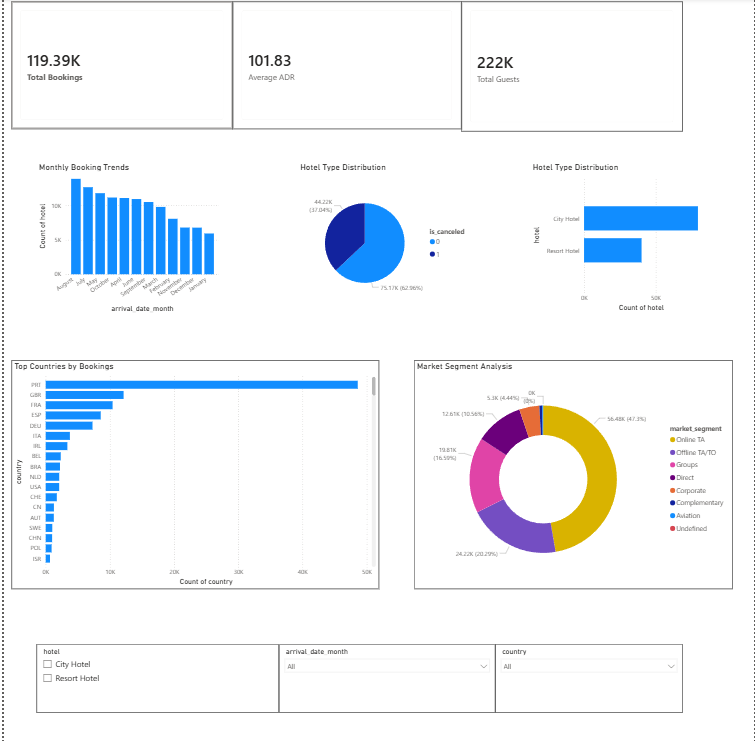

The page's visual inventory and layout, read from the dashboard file:
{"tool":"powerbi","page":{"name":"Page 1","canvas":[1500,1500],"ordinal":0},"visuals":[{"type":"cardVisual","fields":{"Data":["CountNonNull(hotel_bookings (2).hotel)"]},"box":[28.8,20,370,250],"z":0},{"type":"cardVisual","fields":{"Data":["Avg(hotel_bookings (2).adr)"]},"box":[465,15,370,247.5],"z":1},{"type":"cardVisual","fields":{"Data":["Sum(hotel_bookings (2).adults)"]},"box":[886.2,15,368.8,260],"z":2},{"type":"clusteredColumnChart","title":"Monthly Booking Trends","fields":{"Y":["CountNonNull(hotel_bookings (2).hotel)"],"Category":["hotel_bookings (2).arrival_date_month"]},"box":[66.2,310.8,369.4,305.7],"z":3},{"type":"pieChart","title":"Hotel Type Distribution","fields":{"Category":["hotel_bookings (2).is_canceled"],"Y":["CountNonNull(hotel_bookings (2).is_canceled)"]},"box":[557.9,310.8,356.7,305.7],"z":4},{"type":"barChart","title":"Hotel Type Distribution","fields":{"Category":["hotel_bookings (2).hotel"],"Y":["CountNonNull(hotel_bookings (2).hotel)"]},"box":[927.3,287.9,351.6,305.7],"z":5},{"type":"donutChart","title":"Market Segment Analysis","fields":{"Category":["hotel_bookings (2).market_segment"],"Y":["CountNonNull(hotel_bookings (2).market_segment)"]},"box":[835.6,687.8,636.9,440.7],"z":6},{"type":"clusteredBarChart","title":"Top Countries by Bookings","fields":{"Category":["hotel_bookings (2).country"],"Y":["CountNonNull(hotel_bookings (2).country)"]},"box":[15.3,670,733.7,458.6],"z":7},{"type":"slicer","fields":{"Values":["hotel_bookings (2).hotel"]},"box":[71.3,1217.7,486.6,137.6],"z":8},{"type":"slicer","fields":{"Values":["hotel_bookings (2).arrival_date_month"]},"box":[593.8,1217.5,333.8,100],"z":9},{"type":"slicer","fields":{"Values":["hotel_bookings (2).country"]},"box":[991,1217.7,328.6,107],"z":10}]}

Visuals, with their boxes in screenshot pixels (x1, y1, x2, y2), scaled from the page's 1500x1500 canvas onto the 755x741 screenshot:
cardVisual - CountNonNull(hotel_bookings (2).hotel): l=14, t=10, r=201, b=133
cardVisual - Avg(hotel_bookings (2).adr): l=234, t=7, r=420, b=130
cardVisual - Sum(hotel_bookings (2).adults): l=446, t=7, r=632, b=136
"Monthly Booking Trends" clusteredColumnChart: l=33, t=154, r=219, b=305
"Hotel Type Distribution" pieChart: l=281, t=154, r=460, b=305
"Hotel Type Distribution" barChart: l=467, t=142, r=644, b=293
"Market Segment Analysis" donutChart: l=421, t=340, r=741, b=557
"Top Countries by Bookings" clusteredBarChart: l=8, t=331, r=377, b=558
slicer - hotel_bookings (2).hotel: l=36, t=602, r=281, b=670
slicer - hotel_bookings (2).arrival_date_month: l=299, t=601, r=467, b=651
slicer - hotel_bookings (2).country: l=499, t=602, r=664, b=654
